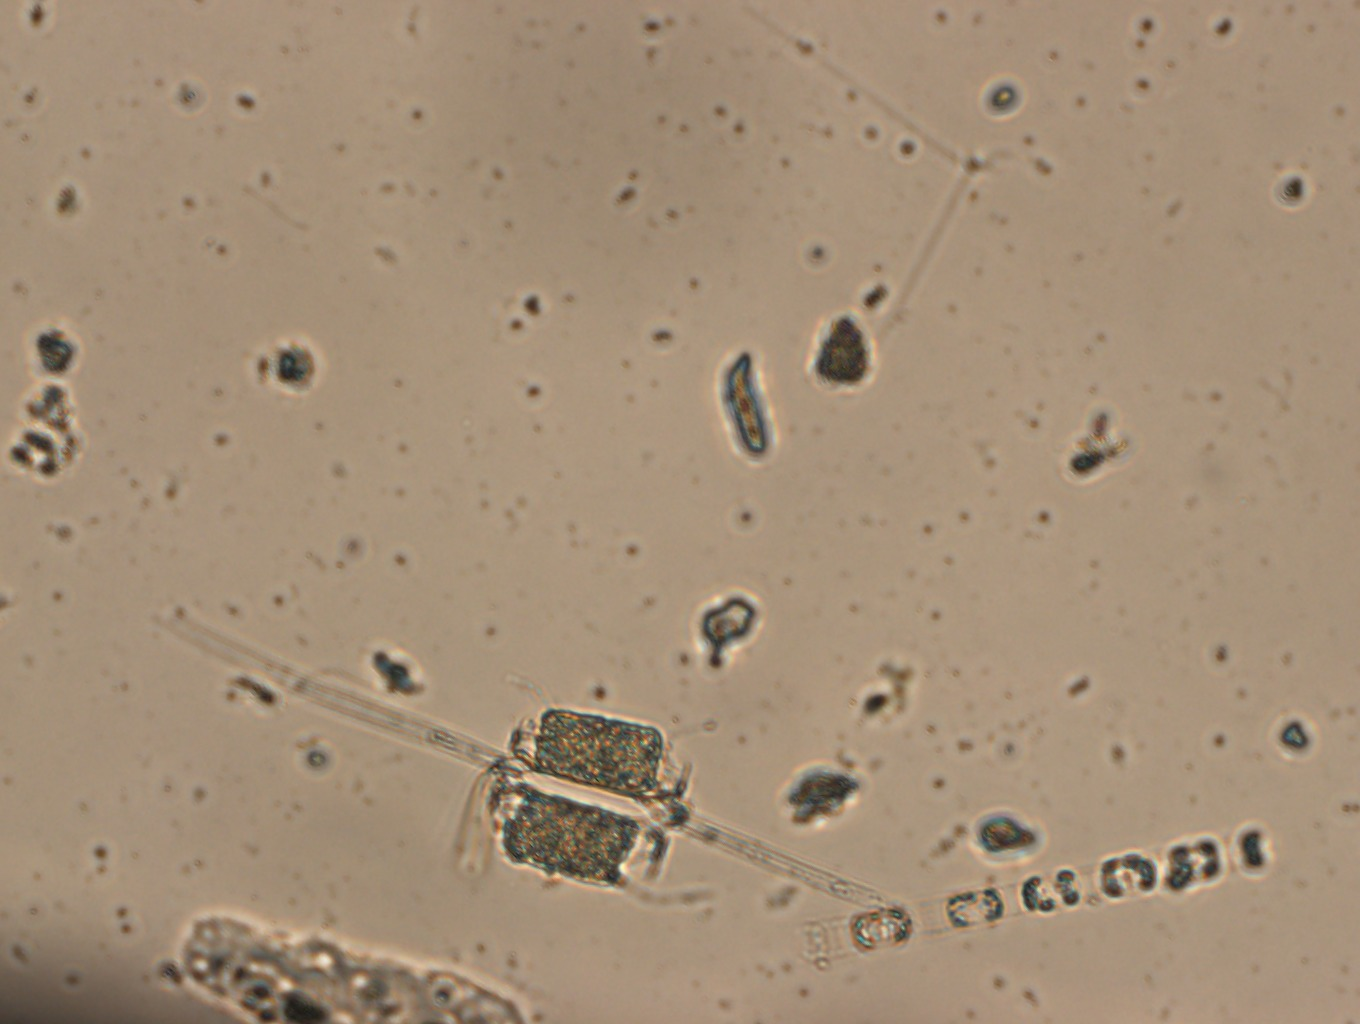chaetoceros: (450, 669, 732, 893)
skeletonema: (799, 830, 1271, 964)
